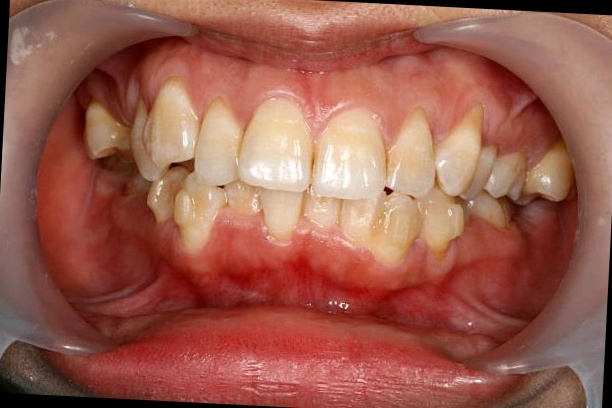Gingivitis: (160, 247, 495, 326)
